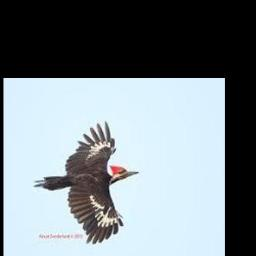Woodpecker: (33, 120, 138, 243)
